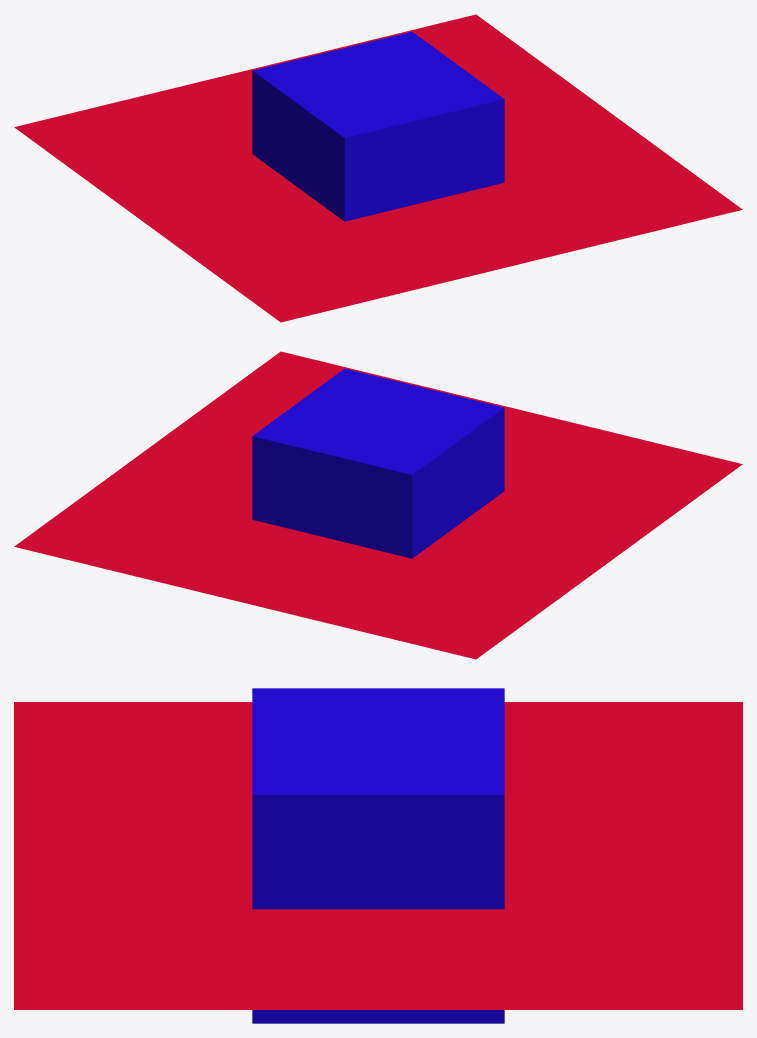
The model's file is sans_nom_2.glb.
The picture shows the model from 3 angles, top to bottom: view 1: azimuth 30°, elevation 25°; view 2: azimuth 150°, elevation 25°; view 3: azimuth 270°, elevation 25°; orthographic projection. The views are drawn at different scales.
Visible parts, largest first — view 1: Plan, Cube; view 2: Plan, Cube; view 3: Plan, Cube.
Part boxes in pixels (<box>): Plan: <box>14,14,742,322</box>; Cube: <box>252,31,504,221</box>; Plan: <box>14,351,742,659</box>; Cube: <box>252,368,504,558</box>; Plan: <box>14,702,742,1009</box>; Cube: <box>252,688,504,1023</box>.
Size of the model in its own units: 7.44 by 2.57 by 7.44.
